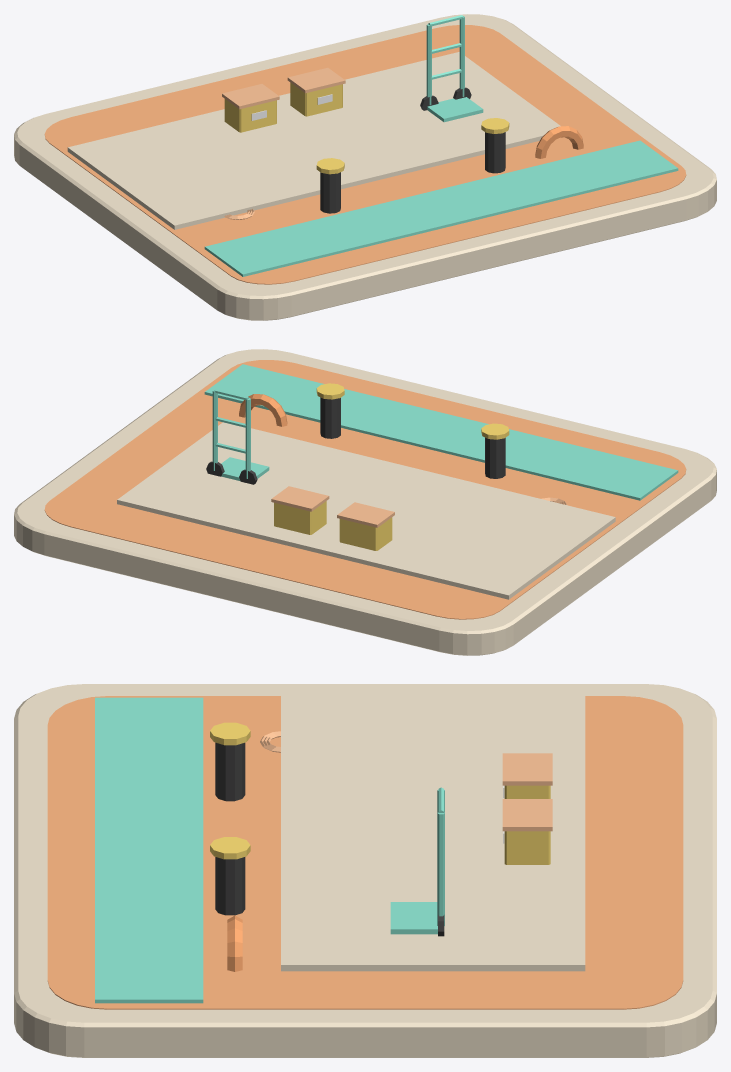
The model's file is room.fbx.
3 renders of one model, top to bottom at view 1: azimuth 30°, elevation 25°; view 2: azimuth 150°, elevation 25°; view 3: azimuth 270°, elevation 25°, orthographic. The views are drawn at different scales.
Parts seen in each view (by area): view 1: Dock paving, COM-01 Rounded Base Direct, COM-02 Floor Surface, Water edge, Box.001, Box, Loading plate, Lid.001, Lid, Mooring post, Mooring post.001, Life ring; view 2: Dock paving, COM-02 Floor Surface, COM-01 Rounded Base Direct, Water edge, Box, Box.001, Lid.001, Lid, Mooring post, Mooring post.001, Life ring, Loading plate; view 3: Dock paving, COM-02 Floor Surface, COM-01 Rounded Base Direct, Water edge, Mooring post.001, Mooring post, Lid, Lid.001, Box.001, Loading plate, Life ring, Frame.001 (+3 smaller).
Boxes of the visible parts, box(x1,y1,x2,y2) form: Dock paving: box(67, 52, 560, 229); COM-01 Rounded Base Direct: box(14, 14, 716, 320); COM-02 Floor Surface: box(44, 25, 686, 284); Water edge: box(204, 140, 678, 276); Box.001: box(290, 82, 342, 116); Box: box(224, 99, 276, 132); Loading plate: box(427, 97, 483, 122); Lid.001: box(287, 67, 345, 93); Lid: box(222, 84, 279, 109); Mooring post: box(320, 172, 340, 213); Mooring post.001: box(485, 132, 505, 173); Life ring: box(535, 126, 583, 158); Dock paving: box(117, 422, 615, 599); COM-02 Floor Surface: box(44, 360, 686, 619); COM-01 Rounded Base Direct: box(14, 349, 716, 655); Water edge: box(204, 364, 678, 500); Box: box(339, 517, 392, 550); Box.001: box(274, 501, 326, 534); Lid.001: box(271, 486, 329, 511); Lid: box(337, 502, 394, 527); Mooring post: box(485, 437, 505, 478); Mooring post.001: box(320, 397, 340, 438); Life ring: box(239, 394, 287, 426); Loading plate: box(221, 457, 269, 481); Dock paving: box(281, 693, 585, 971); COM-02 Floor Surface: box(47, 696, 683, 1009); COM-01 Rounded Base Direct: box(14, 684, 716, 1057); Water edge: box(95, 697, 203, 1003); Mooring post.001: box(215, 857, 245, 915); Mooring post: box(215, 742, 245, 801); Lid: box(502, 753, 552, 785); Lid.001: box(502, 799, 552, 831); Box.001: box(504, 831, 550, 864); Loading plate: box(390, 902, 437, 934); Life ring: box(227, 915, 242, 971); Frame.001: box(437, 812, 444, 925).
Bounding box in the file's own units: 600 × 134 × 520.
